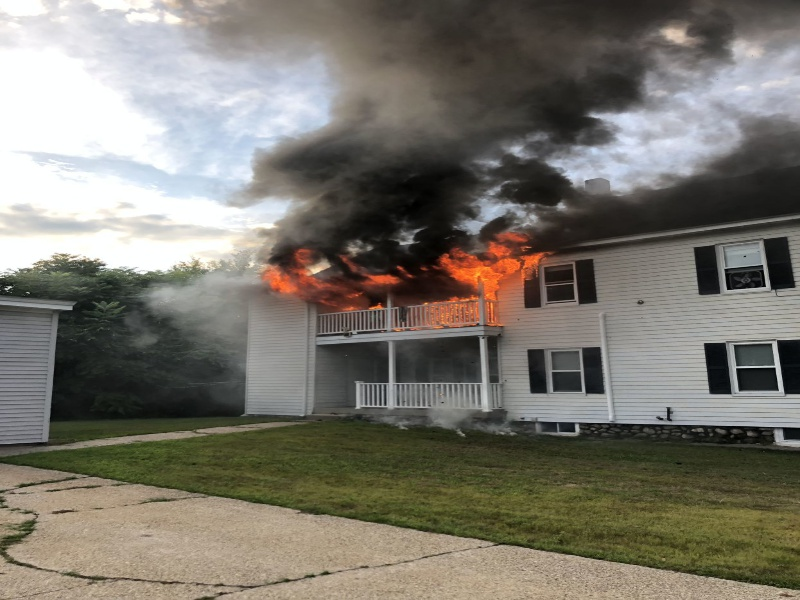fire: (264, 213, 405, 308), (437, 227, 554, 301)
